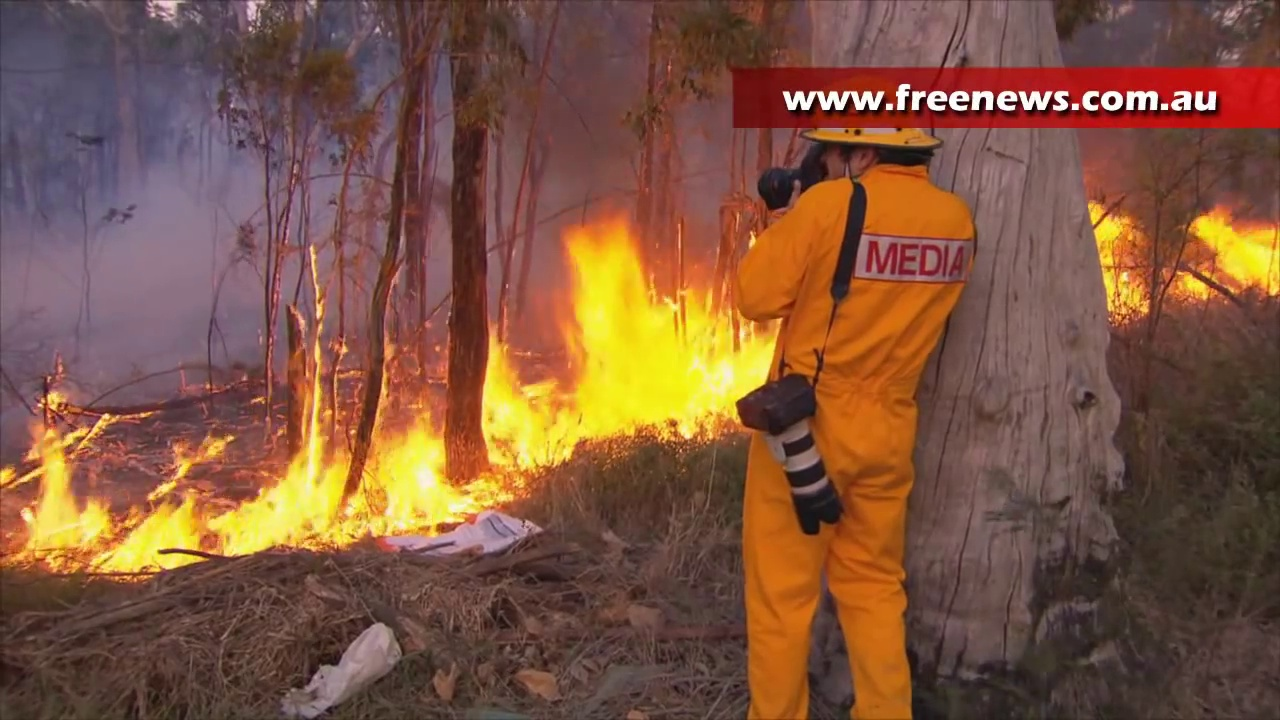fire: (483, 223, 766, 471), (119, 418, 454, 576), (1, 402, 115, 576), (1201, 213, 1279, 287), (1096, 209, 1147, 316)
